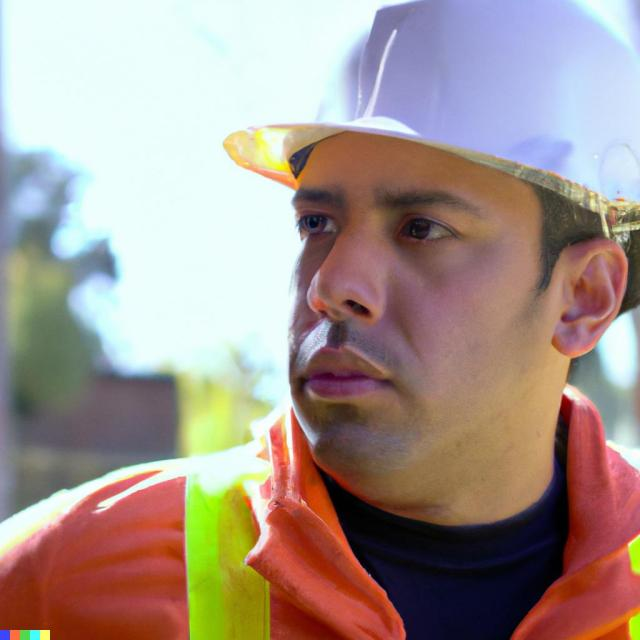Reflective-Jacket: (14, 422, 640, 637)
Safety-Helmet: (231, 6, 640, 215)
